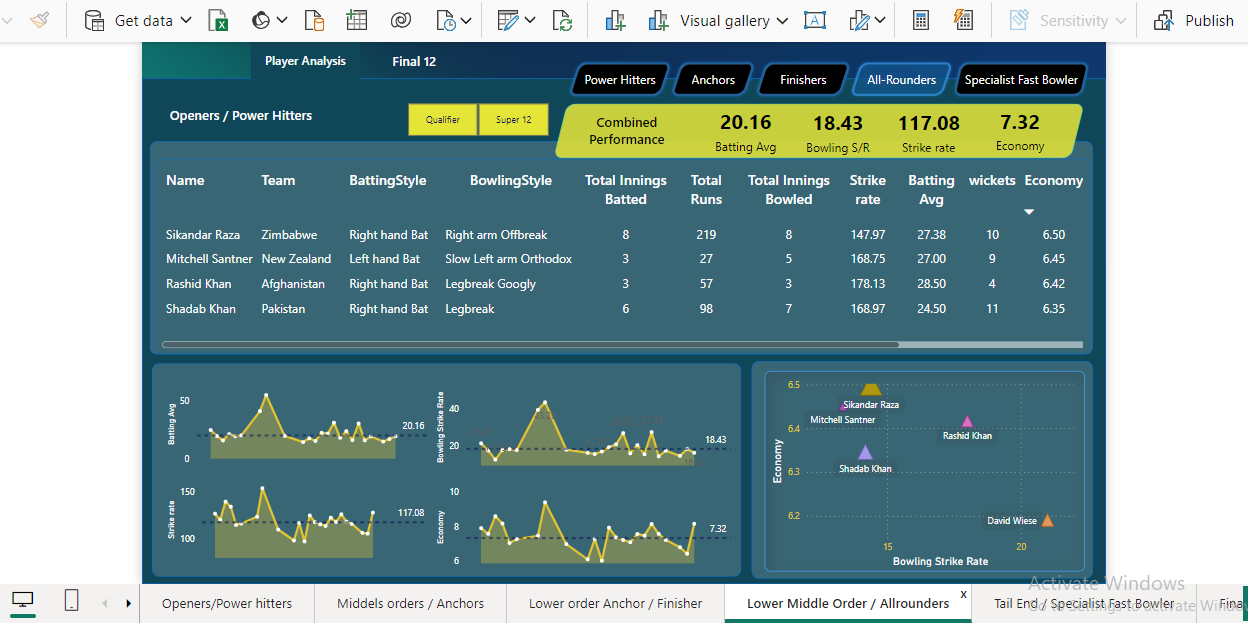

The dashboard page shown, as its layout file describes it:
{"tool":"powerbi","page":{"name":"Lower Middle Order / Allrounders ","canvas":[1280,720],"ordinal":3},"visuals":[{"type":"shape","box":[0,48.3,1280,671.7],"z":0},{"type":"slicer","fields":{"Values":["dim_match_summary.stage"]},"box":[326.7,75,236.7,56.7],"z":1000},{"type":"actionButton","box":[562.5,22.8,144.7,52],"z":2000},{"type":"actionButton","box":[698.7,22.8,120.3,52],"z":3000},{"type":"actionButton","box":[810.5,22.8,134.9,52],"z":4000},{"type":"actionButton","box":[936.9,22.8,144.7,52],"z":5000},{"type":"actionButton","box":[1073.1,22.8,188.6,52],"z":6000},{"type":"shape","box":[10.6,131.7,1252.7,283.3],"z":7000},{"type":"actionButton","box":[144.7,0,144.7,48.8],"z":8000},{"type":"actionButton","box":[289.4,0,144.7,48.8],"z":9000},{"type":"tableEx","fields":{"Values":["dim_players.name","dim_players.team","dim_players.battingStyle","dim_players.bowlingStyle","key_measures.Total Innings Batted","key_measures.Total Runs","key_measures.Total Innings Bowled","key_measures.Strike rate","key_measures.Batting Avg","key_measures.wickets","key_measures.Economy","key_measures.balls Bowled"]},"box":[16.7,155,1243.3,260],"z":10000},{"type":"shape","box":[33.3,75,256.7,43.3],"z":11000},{"type":"shape","box":[546.3,81.3,705.6,73.2],"z":12000},{"type":"card","fields":{"Values":["key_measures.Batting Avg"]},"box":[742.9,72.9,118.6,87.1],"z":13000},{"type":"card","fields":{"Values":["key_measures.Economy"]},"box":[1102.9,77.1,125.7,77.1],"z":14000},{"type":"card","fields":{"Values":["key_measures.Strike rate"]},"box":[985.7,84.3,117.1,65.7],"z":15000},{"type":"card","fields":{"Values":["key_measures.Bowling Strike Rate"]},"box":[861.4,81.4,124.3,72.9],"z":16000},{"type":"shape","box":[562.9,82.9,162.9,67.1],"z":17000},{"type":"shape","box":[13.8,426.7,782.9,283.3],"z":18000},{"type":"shape","box":[810,424.1,453.3,289.2],"z":19000},{"type":"scatterChart","title":"Economy vs Strike Rate","fields":{"Category":["dim_players.name"],"Series":["dim_players.name"],"Y":["key_measures.Economy"],"X":["key_measures.Bowling Strike Rate"],"Size":["key_measures.Total Runs"]},"box":[826.7,436.7,425,266.7],"z":20000},{"type":"areaChart","fields":{"Y":["key_measures.Batting Avg"],"Category":["dim_match_summary.matchDate.Variation.Date Hierarchy.Day"]},"box":[28.3,446.7,356.7,120],"z":21000},{"type":"areaChart","fields":{"Category":["dim_match_summary.matchDate.Variation.Date Hierarchy.Day"],"Y":["key_measures.Bowling Strike Rate"]},"box":[385,446.7,400,120],"z":22000},{"type":"areaChart","fields":{"Y":["key_measures.Strike rate"],"Category":["dim_match_summary.matchDate.Variation.Date Hierarchy.Day"]},"box":[28.3,570,356.7,120],"z":23000},{"type":"areaChart","fields":{"Category":["dim_match_summary.matchDate.Variation.Date Hierarchy.Day"],"Y":["key_measures.Economy"]},"box":[385,583.3,400,120],"z":24000}]}

Visuals, with their boxes on the page's 1280x720 design canvas (x1, y1, x2, y2). These are canvas units, not pixel positions in the 1248x623 screenshot, which may show the page scaled, cropped or inside an application window:
shape: 0,48,1280,720
slicer - dim_match_summary.stage: 327,75,563,132
actionButton: 562,23,707,75
actionButton: 699,23,819,75
actionButton: 810,23,945,75
actionButton: 937,23,1082,75
actionButton: 1073,23,1262,75
shape: 11,132,1263,415
actionButton: 145,0,289,49
actionButton: 289,0,434,49
tableEx - dim_players.name x dim_players.team: 17,155,1260,415
shape: 33,75,290,118
shape: 546,81,1252,154
card - key_measures.Batting Avg: 743,73,862,160
card - key_measures.Economy: 1103,77,1229,154
card - key_measures.Strike rate: 986,84,1103,150
card - key_measures.Bowling Strike Rate: 861,81,986,154
shape: 563,83,726,150
shape: 14,427,797,710
shape: 810,424,1263,713
"Economy vs Strike Rate" scatterChart: 827,437,1252,703
areaChart - key_measures.Batting Avg x dim_match_summary.matchDate.Variation.Date Hierarchy.Day: 28,447,385,567
areaChart - dim_match_summary.matchDate.Variation.Date Hierarchy.Day x key_measures.Bowling Strike Rate: 385,447,785,567
areaChart - key_measures.Strike rate x dim_match_summary.matchDate.Variation.Date Hierarchy.Day: 28,570,385,690
areaChart - dim_match_summary.matchDate.Variation.Date Hierarchy.Day x key_measures.Economy: 385,583,785,703
